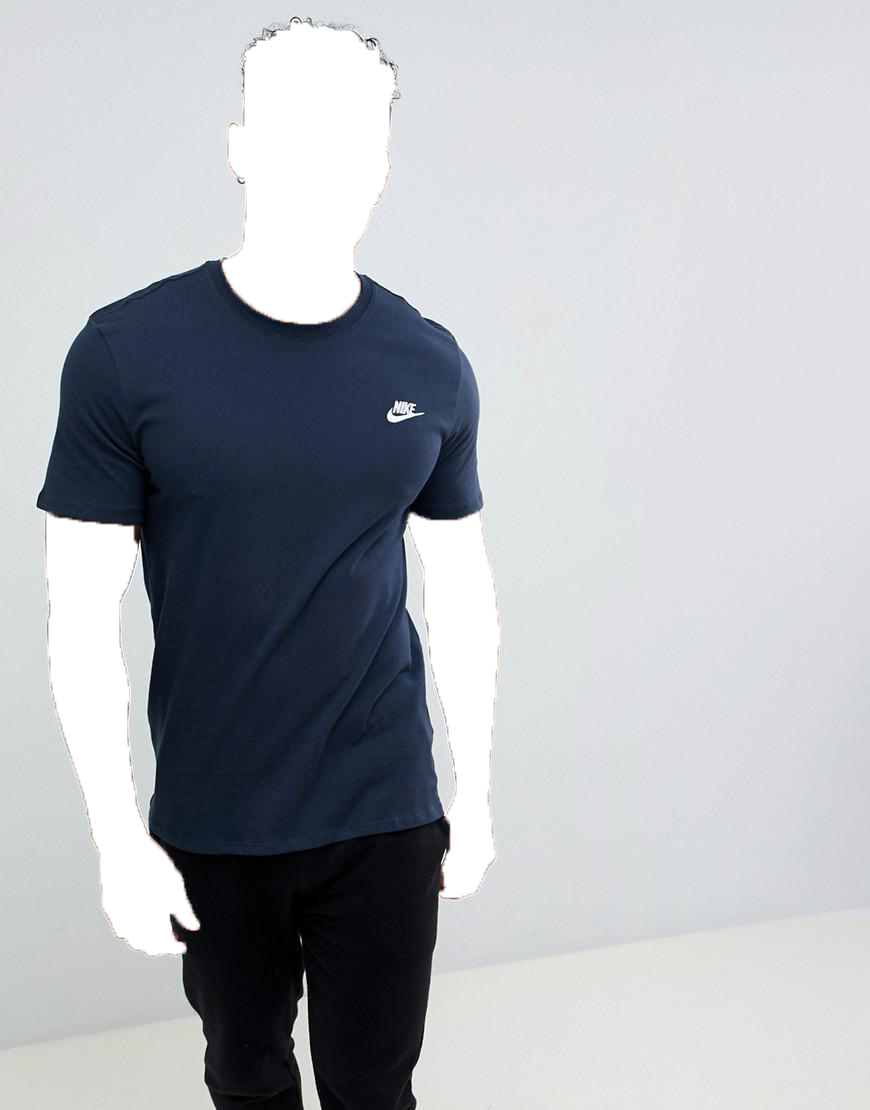teeshirt: (30, 252, 549, 859)
